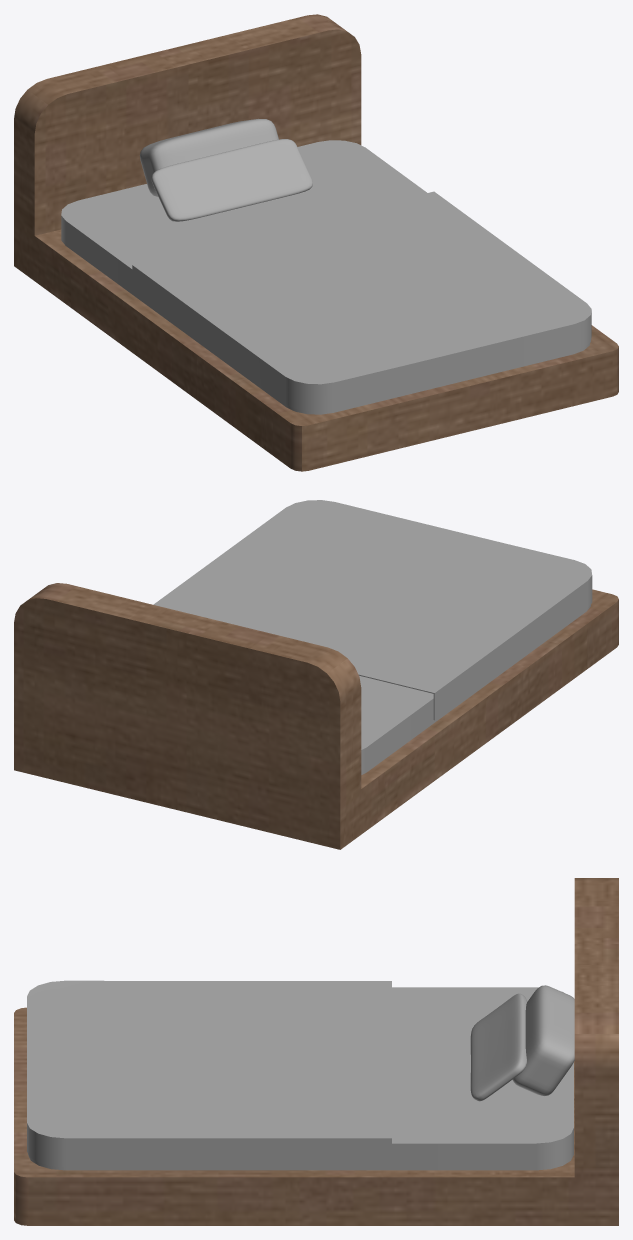
The model's file is bed.fbx.
3 renders of one model, top to bottom at view 1: azimuth 30°, elevation 25°; view 2: azimuth 150°, elevation 25°; view 3: azimuth 270°, elevation 25°, orthographic. The views are drawn at different scales.
Visible parts, largest first — view 1: bedframe, blanket, mattress, pillow, pillow1; view 2: bedframe, blanket, mattress; view 3: blanket, bedframe, mattress, pillow1, pillow.
Boxes of the visible parts, x1,y1,x2,y2 form: bedframe: (14, 14, 618, 471); blanket: (132, 191, 591, 411); mattress: (61, 140, 589, 414); pillow: (151, 139, 312, 221); pillow1: (139, 118, 278, 196); bedframe: (14, 583, 618, 849); blanket: (153, 500, 592, 720); mattress: (359, 604, 590, 774); blanket: (27, 980, 391, 1167); bedframe: (14, 878, 618, 1225); mattress: (28, 987, 573, 1170); pillow1: (512, 985, 574, 1095); pillow: (470, 993, 526, 1101).
Size of the model in its own units: 176 by 92.54 by 265.
